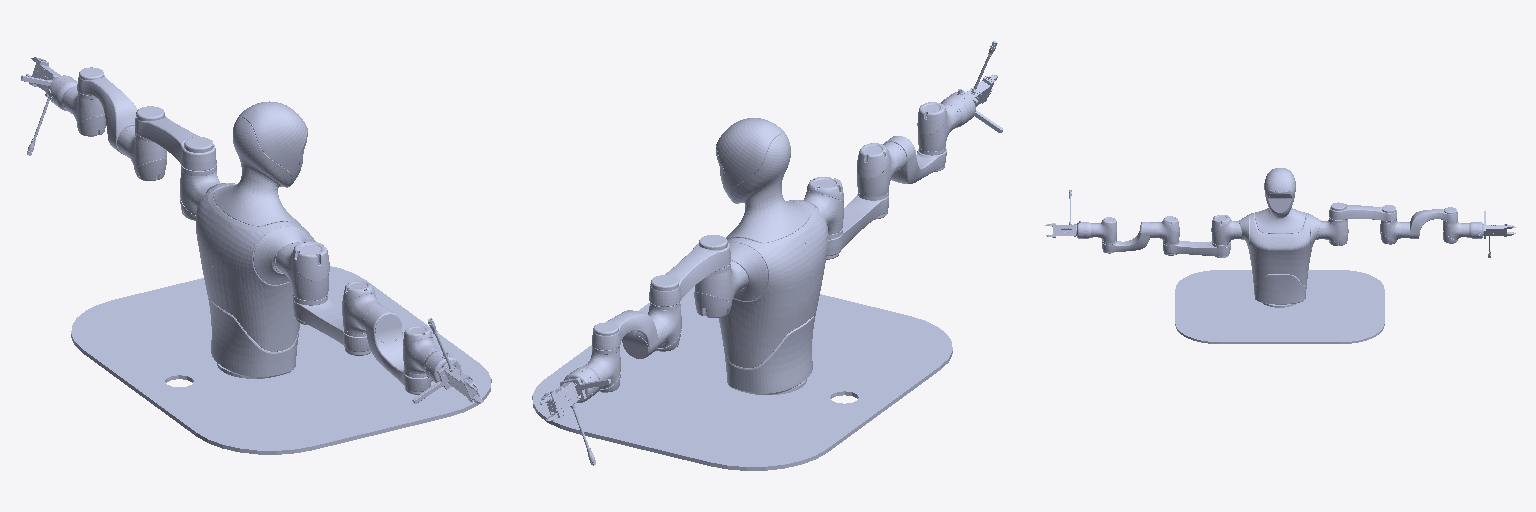
--- Facts derived from the render (not from the file) ---
Views: 3 orthographic renders of the robot side by side, from view 1: azimuth 30°, elevation 25°; view 2: azimuth 150°, elevation 25°; view 3: azimuth 270°, elevation 25°.
Robot: simulation_platform — 21 links, 20 joints (12 revolute, 4 prismatic, 4 fixed); root link base; default pose: every joint at zero.
Links seen in each view (by area): view 1: base, link_left2, link_right1, link_right4, link_left4, link_right2, link_left3, link_right3, link_left5, link_right5, link_left1, hand_right (+3 smaller); view 2: base, link_left2, link_left4, link_right3, link_left1, link_right5, link_right1, link_right2, link_right4, hand_left6, link_left3, link_left5 (+2 smaller); view 3: base, link_left2, link_right1, link_right2, link_left4, link_left1, link_right3, link_right4, link_left3, link_right5.
Link boxes in pixels (left/top/right/bottom): base: left=71, top=101, right=491, bottom=454; link_left2: left=135, top=106, right=216, bottom=170; link_right1: left=273, top=241, right=329, bottom=305; link_right4: left=365, top=307, right=431, bottom=394; link_left4: left=77, top=67, right=136, bottom=154; link_right2: left=293, top=298, right=370, bottom=355; link_left3: left=117, top=126, right=166, bottom=180; link_right3: left=342, top=281, right=383, bottom=336; link_left5: left=62, top=86, right=105, bottom=136; link_right5: left=403, top=326, right=440, bottom=377; link_left1: left=180, top=164, right=220, bottom=220; hand_right: left=412, top=318, right=479, bottom=403; base: left=532, top=118, right=952, bottom=470; link_left2: left=649, top=235, right=730, bottom=306; link_left4: left=592, top=310, right=658, bottom=358; link_right3: left=857, top=142, right=906, bottom=200; link_left1: left=694, top=260, right=748, bottom=317; link_right5: left=917, top=102, right=961, bottom=155; link_right1: left=804, top=177, right=843, bottom=239; link_right2: left=826, top=194, right=888, bottom=259; link_right4: left=883, top=136, right=946, bottom=183; hand_left6: left=545, top=378, right=611, bottom=465; link_left3: left=648, top=303, right=681, bottom=351; link_left5: left=583, top=346, right=620, bottom=392; base: left=1175, top=168, right=1384, bottom=343; link_left2: left=1329, top=202, right=1396, bottom=221; link_right1: left=1211, top=215, right=1244, bottom=247; link_right2: left=1163, top=240, right=1230, bottom=257; link_left4: left=1410, top=207, right=1457, bottom=238; link_left1: left=1316, top=217, right=1348, bottom=245; link_right3: left=1150, top=216, right=1179, bottom=245; link_right4: left=1102, top=222, right=1149, bottom=253; link_left3: left=1380, top=220, right=1409, bottom=244; link_right5: left=1091, top=217, right=1116, bottom=244.
Bounding box of the posed robot: 0.9 × 2.48 × 0.7842 m (x, y, z).
Meshes: 21 distinct files referenced, 21 mesh visuals loaded (21 binary STL).

URDF robot description (simulation_platform):
<?xml version="1.0" encoding="utf-8"?>
<!-- This URDF was automatically created by SolidWorks to URDF Exporter! Originally created by Stephen Brawner ([email redacted]) 
     Commit Version: 1.6.0-4-g7f85cfe  Build Version: 1.6.7995.38578
     For more information, please see http://wiki.ros.org/sw_urdf_exporter -->
<robot
  name="simulation_platform">
  <link
    name="base">
    <inertial>
      <origin
        xyz="0 0 0"
        rpy="0 0 0" />
      <mass
        value="43.3215897902797" />
      <inertia
        ixx="1.3228584285885"
        ixy="-0.000394404115420248"
        ixz="0.0104053289694355"
        iyy="1.00859221975149"
        iyz="-0.000622471141369893"
        izz="1.91465816803884" />
    </inertial>
    <visual>
      <origin
        xyz="0 0 0"
        rpy="0 0 0" />
      <geometry>
        <mesh
          filename="package://simulation_platform/meshes/base.STL" />
      </geometry>
      <material
        name="">
        <color
          rgba="0.792156862745098 0.819607843137255 0.933333333333333 1" />
      </material>
    </visual>
    <collision>
      <origin
        xyz="0 0 0"
        rpy="0 0 0" />
      <geometry>
        <mesh
          filename="package://simulation_platform/meshes/base.STL" />
      </geometry>
    </collision>
  </link>
  <link
    name="link_right0">
    <inertial>
      <origin
        xyz="7.5903E-06 -0.14177 0.00027549"
        rpy="0 0 0" />
      <mass
        value="0.72846" />
      <inertia
        ixx="0.00088281"
        ixy="5.9642E-08"
        ixz="-3.6255E-08"
        iyy="0.0014585"
        iyz="-1.4724E-05"
        izz="0.0009704" />
    </inertial>
    <visual>
      <origin
        xyz="0 0 0"
        rpy="0 0 0" />
      <geometry>
        <mesh
          filename="package://simulation_platform/meshes/link_right0.STL" />
      </geometry>
      <material
        name="">
        <color
          rgba="0.79216 0.81961 0.93333 1" />
      </material>
    </visual>
    <collision>
      <origin
        xyz="0 0 0"
        rpy="0 0 0" />
      <geometry>
        <mesh
          filename="package://simulation_platform/meshes/link_right0.STL" />
      </geometry>
    </collision>
  </link>
  <joint
    name="joint_right0"
    type="fixed">
    <origin
      xyz="0 0 0"
      rpy="0 0 0" />
    <parent
      link="base" />
    <child
      link="link_right0" />
    <axis
      xyz="0 0 0" />
    <limit
      lower="-3.14"
      upper="3.14"
      effort="0"
      velocity="0" />
  </joint>
  <link
    name="link_right1">
    <inertial>
      <origin
        xyz="-8.21442385146032E-06 -0.00396594988173432 0.278493657857518"
        rpy="0 0 0" />
      <mass
        value="1.9858295170009" />
      <inertia
        ixx="0.00594605746573216"
        ixy="-7.00105588073502E-07"
        ixz="-2.69860796268996E-07"
        iyy="0.00528006222559574"
        iyz="0.0011450656041093"
        izz="0.00325220079372749" />
    </inertial>
    <visual>
      <origin
        xyz="0 0 0"
        rpy="0 0 0" />
      <geometry>
        <mesh
          filename="package://simulation_platform/meshes/link_right1.STL" />
      </geometry>
      <material
        name="">
        <color
          rgba="0.792156862745098 0.819607843137255 0.933333333333333 1" />
      </material>
    </visual>
    <collision>
      <origin
        xyz="0 0 0"
        rpy="0 0 0" />
      <geometry>
        <mesh
          filename="package://simulation_platform/meshes/link_right1.STL" />
      </geometry>
    </collision>
  </link>
  <joint
    name="joint_right1"
    type="revolute">
    <origin
      xyz="0 0 0"
      rpy="1.5708 0 0" />
    <parent
      link="link_right0" />
    <child
      link="link_right1" />
    <axis
      xyz="0 0 1" />
    <limit
      lower="-6.28"
      upper="6.28"
      effort="0"
      velocity="0" />
  </joint>
  <link
    name="link_right2">
    <inertial>
      <origin
        xyz="-1.22579083361579E-05 0.122778072077027 0.107534229944211"
        rpy="0 0 0" />
      <mass
        value="1.33352472428525" />
      <inertia
        ixx="0.0115891008335387"
        ixy="2.47537255506613E-06"
        ixz="-1.30847017140252E-07"
        iyy="0.000874266875649386"
        iyz="0.000516653730809935"
        izz="0.0119620511132481" />
    </inertial>
    <visual>
      <origin
        xyz="0 0 0"
        rpy="0 0 0" />
      <geometry>
        <mesh
          filename="package://simulation_platform/meshes/link_right2.STL" />
      </geometry>
      <material
        name="">
        <color
          rgba="0.792156862745098 0.819607843137255 0.933333333333333 1" />
      </material>
    </visual>
    <collision>
      <origin
        xyz="0 0 0"
        rpy="0 0 0" />
      <geometry>
        <mesh
          filename="package://simulation_platform/meshes/link_right2.STL" />
      </geometry>
    </collision>
  </link>
  <joint
    name="joint_right2"
    type="revolute">
    <origin
      xyz="0 0 0.3075"
      rpy="1.5708 0 0" />
    <parent
      link="link_right1" />
    <child
      link="link_right2" />
    <axis
      xyz="0 0 1" />
    <limit
      lower="-2.35"
      upper="2.35"
      effort="0"
      velocity="0" />
  </joint>
  <link
    name="link_right3">
    <inertial>
      <origin
        xyz="0.0262437283143706 5.35184722441628E-06 -0.00343984053858781"
        rpy="0 0 0" />
      <mass
        value="1.39234640329936" />
      <inertia
        ixx="0.00182228881084302"
        ixy="-2.21584401608917E-07"
        ixz="-0.000639318936169154"
        iyy="0.00336257779734387"
        iyz="-5.57320573304867E-07"
        izz="0.00292731729292644" />
    </inertial>
    <visual>
      <origin
        xyz="0 0 0"
        rpy="0 0 0" />
      <geometry>
        <mesh
          filename="package://simulation_platform/meshes/link_right3.STL" />
      </geometry>
      <material
        name="">
        <color
          rgba="0.792156862745098 0.819607843137255 0.933333333333333 1" />
      </material>
    </visual>
    <collision>
      <origin
        xyz="0 0 0"
        rpy="0 0 0" />
      <geometry>
        <mesh
          filename="package://simulation_platform/meshes/link_right3.STL" />
      </geometry>
    </collision>
  </link>
  <joint
    name="joint_right3"
    type="revolute">
    <origin
      xyz="0 0.266 0"
      rpy="3.1416 0 1.5708" />
    <parent
      link="link_right2" />
    <child
      link="link_right3" />
    <axis
      xyz="0 0 1" />
    <limit
      lower="-2.61"
      upper="2.61"
      effort="0"
      velocity="0" />
  </joint>
  <link
    name="link_right4">
    <inertial>
      <origin
        xyz="1.8707836847015E-06 -0.0570139540905014 0.201563216548901"
        rpy="0 0 0" />
      <mass
        value="1.07039559875055" />
      <inertia
        ixx="0.00657429885177906"
        ixy="3.46891116283652E-08"
        ixz="-5.18490374181869E-09"
        iyy="0.0053784888316756"
        iyz="0.00190731399907389"
        izz="0.00214026087147766" />
    </inertial>
    <visual>
      <origin
        xyz="0 0 0"
        rpy="0 0 0" />
      <geometry>
        <mesh
          filename="package://simulation_platform/meshes/link_right4.STL" />
      </geometry>
      <material
        name="">
        <color
          rgba="0.792156862745098 0.819607843137255 0.933333333333333 1" />
      </material>
    </visual>
    <collision>
      <origin
        xyz="0 0 0"
        rpy="0 0 0" />
      <geometry>
        <mesh
          filename="package://simulation_platform/meshes/link_right4.STL" />
      </geometry>
    </collision>
  </link>
  <joint
    name="joint_right4"
    type="revolute">
    <origin
      xyz="0 0 0"
      rpy="1.5708 0 1.5708" />
    <parent
      link="link_right3" />
    <child
      link="link_right4" />
    <axis
      xyz="0 0 1" />
    <limit
      lower="-6.28"
      upper="6.28"
      effort="0"
      velocity="0" />
  </joint>
  <link
    name="link_right5">
    <inertial>
      <origin
        xyz="-4.66460130466029E-07 -0.0225167537988672 -0.00429954255347281"
        rpy="0 0 0" />
      <mass
        value="0.990243786402165" />
      <inertia
        ixx="0.0019310273989305"
        ixy="3.96432641526973E-08"
        ixz="9.44768411675116E-08"
        iyy="0.00109724751585536"
        iyz="0.000374785902132069"
        izz="0.00160806952391578" />
    </inertial>
    <visual>
      <origin
        xyz="0 0 0"
        rpy="0 0 0" />
      <geometry>
        <mesh
          filename="package://simulation_platform/meshes/link_right5.STL" />
      </geometry>
      <material
        name="">
        <color
          rgba="0.792156862745098 0.819607843137255 0.933333333333333 1" />
      </material>
    </visual>
    <collision>
      <origin
        xyz="0 0 0"
        rpy="0 0 0" />
      <geometry>
        <mesh
          filename="package://simulation_platform/meshes/link_right5.STL" />
      </geometry>
    </collision>
  </link>
  <joint
    name="joint_right5"
    type="revolute">
    <origin
      xyz="0 0 0.324"
      rpy="-1.5708 0 0" />
    <parent
      link="link_right4" />
    <child
      link="link_right5" />
    <axis
      xyz="0 0 1" />
    <limit
      lower="-2.56"
      upper="2.56"
      effort="0"
      velocity="0" />
  </joint>
  <link
    name="link_right6">
    <inertial>
      <origin
        xyz="1.3519046671906E-05 0.000477302441929228 0.137144689459497"
        rpy="0 0 0" />
      <mass
        value="0.126608033051336" />
      <inertia
        ixx="8.2898811851378E-05"
        ixy="-5.29172824242229E-09"
        ixz="-5.70900039755673E-08"
        iyy="8.60224116198627E-05"
        iyz="1.30074836769069E-07"
        izz="0.000156133500600113" />
    </inertial>
    <visual>
      <origin
        xyz="0 0 0"
        rpy="0 0 0" />
      <geometry>
        <mesh
          filename="package://simulation_platform/meshes/link_right6.STL" />
      </geometry>
      <material
        name="">
        <color
          rgba="0.792156862745098 0.819607843137255 0.933333333333333 1" />
      </material>
    </visual>
    <collision>
      <origin
        xyz="0 0 0"
        rpy="0 0 0" />
      <geometry>
        <mesh
          filename="package://simulation_platform/meshes/link_right6.STL" />
      </geometry>
    </collision>
  </link>
  <joint
    name="joint_right6"
    type="revolute">
    <origin
      xyz="0 0 0"
      rpy="1.5708 0 0" />
    <parent
      link="link_right5" />
    <child
      link="link_right6" />
    <axis
      xyz="0 0 1" />
    <limit
      lower="-6.28"
      upper="6.28"
      effort="0"
      velocity="0" />
  </joint>
  <link
    name="hand_right">
    <inertial>
      <origin
        xyz="-0.00821905436879158 0.00634117823836328 0.0495402737698645"
        rpy="0 0 0" />
      <mass
        value="0.231361572683321" />
      <inertia
        ixx="0.000133313381186756"
        ixy="-1.32111223551802E-05"
        ixz="-4.6597924957757E-09"
        iyy="0.000143130625498164"
        iyz="-3.65410109705155E-07"
        izz="0.000185396526175827" />
    </inertial>
    <visual>
      <origin
        xyz="0 0 0"
        rpy="0 0 0" />
      <geometry>
        <mesh
          filename="package://simulation_platform/meshes/hand_right.STL" />
      </geometry>
      <material
        name="">
        <color
          rgba="0.792156862745098 0.819607843137255 0.933333333333333 1" />
      </material>
    </visual>
    <collision>
      <origin
        xyz="0 0 0"
        rpy="0 0 0" />
      <geometry>
        <mesh
          filename="package://simulation_platform/meshes/hand_right.STL" />
      </geometry>
    </collision>
  </link>
  <joint
    name="hand_right"
    type="fixed">
    <origin
      xyz="0 0 0.175"
      rpy="0 0 0" />
    <parent
      link="link_right6" />
    <child
      link="hand_right" />
    <axis
      xyz="0 0 0" />
  </joint>
  <link
    name="right_finger1">
    <inertial>
      <origin
        xyz="-0.00229785421871702 0.0175941162153652 0.00978855943626122"
        rpy="0 0 0" />
      <mass
        value="0.0123263578772126" />
      <inertia
        ixx="2.59093020990083E-06"
        ixy="-4.44999808480243E-08"
        ixz="8.86991192929302E-08"
        iyy="2.23465232621784E-06"
        iyz="1.54218655453198E-07"
        izz="7.42503503537374E-07" />
    </inertial>
    <visual>
      <origin
        xyz="0 0 0"
        rpy="0 0 0" />
      <geometry>
        <mesh
          filename="package://simulation_platform/meshes/right_finger1.STL" />
      </geometry>
      <material
        name="">
        <color
          rgba="0.792156862745098 0.819607843137255 0.933333333333333 1" />
      </material>
    </visual>
    <collision>
      <origin
        xyz="0 0 0"
        rpy="0 0 0" />
      <geometry>
        <mesh
          filename="package://simulation_platform/meshes/right_finger1.STL" />
      </geometry>
    </collision>
  </link>
  <joint
    name="joint_right_finger1"
    type="prismatic">
    <origin
      xyz="-0.01106 0.0267 0.1095"
      rpy="1.5708 0 0.3927" />
    <parent
      link="hand_right" />
    <child
      link="right_finger1" />
    <axis
      xyz="0 0 1" />
    <limit
      lower="0"
      upper="0.01982"
      effort="0"
      velocity="0" />
    <mimic
      joint="joint_right_finger2"
      multiplier="1"
      offset="0" />
  </joint>
  <link
    name="right_finger2">
    <inertial>
      <origin
        xyz="-0.0022978542187163 0.0175941162153661 0.00978855943626111"
        rpy="0 0 0" />
      <mass
        value="0.0123263578772126" />
      <inertia
        ixx="2.59093020990084E-06"
        ixy="-4.44999808480256E-08"
        ixz="8.86991192929333E-08"
        iyy="2.23465232621785E-06"
        iyz="1.54218655453198E-07"
        izz="7.42503503537376E-07" />
    </inertial>
    <visual>
      <origin
        xyz="0 0 0"
        rpy="0 0 0" />
      <geometry>
        <mesh
          filename="package://simulation_platform/meshes/right_finger2.STL" />
      </geometry>
      <material
        name="">
        <color
          rgba="0.792156862745098 0.819607843137255 0.933333333333333 1" />
      </material>
    </visual>
    <collision>
      <origin
        xyz="0 0 0"
        rpy="0 0 0" />
      <geometry>
        <mesh
          filename="package://simulation_platform/meshes/right_finger2.STL" />
      </geometry>
    </collision>
  </link>
  <joint
    name="joint_right_finger2"
    type="prismatic">
    <origin
      xyz="0.01106 -0.0267 0.1095"
      rpy="1.5708 0 -2.7489" />
    <parent
      link="hand_right" />
    <child
      link="right_finger2" />
    <axis
      xyz="0 0 1" />
    <limit
      lower="0"
      upper="0.01982"
      effort="0"
      velocity="0" />
  </joint>
  <link
    name="link_left0">
    <inertial>
      <origin
        xyz="-7.59034702882411E-06 0.141765152858901 0.000275485599622982"
        rpy="0 0 0" />
      <mass
        value="0.728456071678779" />
      <inertia
        ixx="0.00088280791320513"
        ixy="5.96416765246259E-08"
        ixz="3.62553999573005E-08"
        iyy="0.00145846071899871"
        iyz="1.47235460345846E-05"
        izz="0.000970397629421623" />
    </inertial>
    <visual>
      <origin
        xyz="0 0 0"
        rpy="0 0 0" />
      <geometry>
        <mesh
          filename="package://simulation_platform/meshes/link_left0.STL" />
      </geometry>
      <material
        name="">
        <color
          rgba="0.792156862745098 0.819607843137255 0.933333333333333 1" />
      </material>
    </visual>
    <collision>
      <origin
        xyz="0 0 0"
        rpy="0 0 0" />
      <geometry>
        <mesh
          filename="package://simulation_platform/meshes/link_left0.STL" />
      </geometry>
    </collision>
  </link>
  <joint
    name="joint_left0"
    type="fixed">
    <origin
      xyz="0 0 0"
      rpy="0 0 0" />
    <parent
      link="base" />
    <child
      link="link_left0" />
    <axis
      xyz="0 0 0" />
    <limit
      lower="-3.14"
      upper="3.14"
      effort="0"
      velocity="0" />
  </joint>
  <link
    name="link_left1">
    <inertial>
      <origin
        xyz="-8.21441705614601E-06 -0.00396594990535803 0.278493657894544"
        rpy="0 0 0" />
      <mass
        value="1.985829515773" />
      <inertia
        ixx="0.00594605744769281"
        ixy="-7.0010251938855E-07"
        ixz="-2.69900238327082E-07"
        iyy="0.00528006222883993"
        iyz="0.00114506560170686"
        izz="0.00325220080147783" />
    </inertial>
    <visual>
      <origin
        xyz="0 0 0"
        rpy="0 0 0" />
      <geometry>
        <mesh
          filename="package://simulation_platform/meshes/link_left1.STL" />
      </geometry>
      <material
        name="">
        <color
          rgba="0.792156862745098 0.819607843137255 0.933333333333333 1" />
      </material>
    </visual>
    <collision>
      <origin
        xyz="0 0 0"
        rpy="0 0 0" />
      <geometry>
        <mesh
          filename="package://simulation_platform/meshes/link_left1.STL" />
      </geometry>
    </collision>
  </link>
  <joint
    name="joint_left1"
    type="revolute">
    <origin
      xyz="0 0 0"
      rpy="-1.5707963267949 0 0" />
    <parent
      link="link_left0" />
    <child
      link="link_left1" />
    <axis
      xyz="0 0 -1" />
    <limit
      lower="-6.28"
      upper="6.28"
      effort="0"
      velocity="0" />
  </joint>
  <link
    name="link_left2">
    <inertial>
      <origin
        xyz="-1.22579083319113E-05 0.122778072077023 0.107534229944211"
        rpy="0 0 0" />
      <mass
        value="1.33352472428524" />
      <inertia
        ixx="0.0115891008335387"
        ixy="2.47537255507954E-06"
        ixz="-1.30847017140168E-07"
        iyy="0.000874266875649388"
        iyz="0.000516653730809937"
        izz="0.0119620511132481" />
    </inertial>
    <visual>
      <origin
        xyz="0 0 0"
        rpy="0 0 0" />
      <geometry>
        <mesh
          filename="package://simulation_platform/meshes/link_left2.STL" />
      </geometry>
      <material
        name="">
        <color
          rgba="0.792156862745098 0.819607843137255 0.933333333333333 1" />
      </material>
    </visual>
    <collision>
      <origin
        xyz="0 0 0"
        rpy="0 0 0" />
      <geometry>
        <mesh
          filename="package://simulation_platform/meshes/link_left2.STL" />
      </geometry>
    </collision>
  </link>
  <joint
    name="joint_left2"
    type="revolute">
    <origin
      xyz="0 0 0.3075"
      rpy="1.5707963267949 0 0" />
    <parent
      link="link_left1" />
    <child
      link="link_left2" />
    <axis
      xyz="0 0 1" />
    <limit
      lower="-2.35"
      upper="2.35"
      effort="0"
      velocity="0" />
  </joint>
  <link
    name="link_left3">
    <inertial>
      <origin
        xyz="0.026244 5.352E-06 -0.0034398"
        rpy="0 0 0" />
      <mass
        value="1.3923" />
      <inertia
        ixx="0.0018223"
        ixy="-2.216E-07"
        ixz="-0.00063932"
        iyy="0.0033626"
        iyz="-5.5732E-07"
        izz="0.0029273" />
    </inertial>
    <visual>
      <origin
        xyz="0 0 0"
        rpy="0 0 0" />
      <geometry>
        <mesh
          filename="package://simulation_platform/meshes/link_left3.STL" />
      </geometry>
      <material
        name="">
        <color
          rgba="0.79216 0.81961 0.93333 1" />
      </material>
    </visual>
    <collision>
      <origin
        xyz="0 0 0"
        rpy="0 0 0" />
      <geometry>
        <mesh
          filename="package://simulation_platform/meshes/link_left3.STL" />
      </geometry>
    </collision>
  </link>
  <joint
    name="joint_left3"
    type="revolute">
    <origin
      xyz="0 0.266 0"
      rpy="3.14159265358979 0 1.5707963267949" />
    <parent
      link="link_left2" />
    <child
      link="link_left3" />
    <axis
      xyz="0 0 1" />
    <limit
      lower="-2.61"
      upper="2.61"
      effort="0"
      velocity="0" />
  </joint>
  <link
    name="link_left4">
    <inertial>
      <origin
        xyz="1.87078368585336E-06 -0.0570139540905013 0.201563216548896"
        rpy="0 0 0" />
      <mass
        value="1.07039559875056" />
      <inertia
        ixx="0.00657429885177912"
        ixy="3.46891116373785E-08"
        ixz="-5.18490374618703E-09"
        iyy="0.00537848883167567"
        iyz="0.00190731399907391"
        izz="0.00214026087147767" />
    </inertial>
    <visual>
      <origin
        xyz="0 0 0"
        rpy="0 0 0" />
      <geometry>
        <mesh
          filename="package://simulation_platform/meshes/link_left4.STL" />
      </geometry>
      <material
        name="">
        <color
          rgba="0.792156862745098 0.819607843137255 0.933333333333333 1" />
      </material>
    </visual>
    <collision>
      <origin
        xyz="0 0 0"
        rpy="0 0 0" />
      <geometry>
        <mesh
          filename="package://simulation_platform/meshes/link_left4.STL" />
      </geometry>
    </collision>
  </link>
  <joint
    name="joint_left4"
    type="revolute">
    <origin
      xyz="0 0 0"
      rpy="1.5707963267949 0 1.5707963267949" />
    <parent
      link="link_left3" />
    <child
      link="link_left4" />
    <axis
      xyz="0 0 1" />
    <limit
      lower="-6.28"
      upper="6.28"
      effort="0"
      velocity="0" />
  </joint>
  <link
    name="link_left5">
    <inertial>
      <origin
        xyz="-4.6666E-07 0.022517 0.0042995"
        rpy="0 0 0" />
      <mass
        value="0.99024" />
      <inertia
        ixx="0.001931"
        ixy="-3.9634E-08"
        ixz="-9.4476E-08"
        iyy="0.0010972"
        iyz="0.00037479"
        izz="0.0016081" />
    </inertial>
    <visual>
      <origin
        xyz="0 0 0"
        rpy="0 0 0" />
      <geometry>
        <mesh
          filename="package://simulation_platform/meshes/link_left5.STL" />
      </geometry>
      <material
        name="">
        <color
          rgba="0.79216 0.81961 0.93333 1" />
      </material>
    </visual>
    <collision>
      <origin
        xyz="0 0 0"
        rpy="0 0 0" />
      <geometry>
        <mesh
          filename="package://simulation_platform/meshes/link_left5.STL" />
      </geometry>
    </collision>
  </link>
  <joint
    name="joint_left5"
    type="revolute">
    <origin
      xyz="0 0 0.323999999999999"
      rpy="1.5707963267949 0 0" />
    <parent
      link="link_left4" />
    <child
      link="link_left5" />
    <axis
      xyz="0 0 1" />
    <limit
      lower="-2.56"
      upper="2.56"
      effort="0"
      velocity="0" />
  </joint>
  <link
    name="link_left6">
    <inertial>
      <origin
        xyz="0.0004773 1.3519E-05 -0.13714"
        rpy="0 0 0" />
      <mass
        value="0.12661" />
      <inertia
        ixx="8.6022E-05"
        ixy="-5.2917E-09"
        ixz="-1.3007E-07"
        iyy="8.2899E-05"
        iyz="5.709E-08"
        izz="0.00015613" />
    </inertial>
    <visual>
      <origin
        xyz="0 0 0"
        rpy="0 0 0" />
      <geometry>
        <mesh
          filename="package://simulation_platform/meshes/link_left6.STL" />
      </geometry>
      <material
        name="">
        <color
          rgba="0.79216 0.81961 0.93333 1" />
      </material>
    </visual>
    <collision>
      <origin
        xyz="0 0 0"
        rpy="0 0 0" />
      <geometry>
        <mesh
          filename="package://simulation_platform/meshes/link_left6.STL" />
      </geometry>
    </collision>
  </link>
  <joint
    name="joint_left6"
    type="revolute">
    <origin
      xyz="0 0 0"
      rpy="1.5707963267949 0 0" />
    <parent
      link="link_left5" />
    <child
      link="link_left6" />
    <axis
      xyz="0 0 1" />
    <limit
      lower="-6.28"
      upper="6.28"
      effort="0"
      velocity="0" />
  </joint>
  <link
    name="hand_left6">
    <inertial>
      <origin
        xyz="-0.00821905436877443 0.00634117823836089 0.0495402737698643"
        rpy="0 0 0" />
      <mass
        value="0.23136157268332" />
      <inertia
        ixx="0.000133313381186756"
        ixy="-1.32111223551801E-05"
        ixz="-4.65979249504553E-09"
        iyy="0.000143130625498164"
        iyz="-3.65410109704819E-07"
        izz="0.000185396526175827" />
    </inertial>
    <visual>
      <origin
        xyz="0 0 0"
        rpy="0 0 0" />
      <geometry>
        <mesh
          filename="package://simulation_platform/meshes/hand_left6.STL" />
      </geometry>
      <material
        name="">
        <color
          rgba="0.792156862745098 0.819607843137255 0.933333333333333 1" />
      </material>
    </visual>
    <collision>
      <origin
        xyz="0 0 0"
        rpy="0 0 0" />
      <geometry>
        <mesh
          filename="package://simulation_platform/meshes/hand_left6.STL" />
      </geometry>
    </collision>
  </link>
  <joint
    name="hand_link"
    type="fixed">
    <origin
      xyz="0 0 -0.175"
      rpy="-3.1416 0 0" />
    <parent
      link="link_left6" />
    <child
      link="hand_left6" />
    <axis
      xyz="0 0 0" />
  </joint>
  <link
    name="left_finger1">
    <inertial>
      <origin
        xyz="-0.00229785421872031 0.0175941162153714 0.00978855943626961"
        rpy="0 0 0" />
      <mass
        value="0.0123263578772125" />
      <inertia
        ixx="2.59093020990084E-06"
        ixy="-4.44999808480204E-08"
        ixz="8.86991192929284E-08"
        iyy="2.23465232621785E-06"
        iyz="1.5421865545319E-07"
        izz="7.42503503537373E-07" />
    </inertial>
    <visual>
      <origin
        xyz="0 0 0"
        rpy="0 0 0" />
      <geometry>
        <mesh
          filename="package://simulation_platform/meshes/left_finger1.STL" />
      </geometry>
      <material
        name="">
        <color
          rgba="0.792156862745098 0.819607843137255 0.933333333333333 1" />
      </material>
    </visual>
    <collision>
      <origin
        xyz="0 0 0"
        rpy="0 0 0" />
      <geometry>
        <mesh
          filename="package://simulation_platform/meshes/left_finger1.STL" />
      </geometry>
    </collision>
  </link>
  <joint
    name="joint_left_finger1"
    type="prismatic">
    <origin
      xyz="0.01106 -0.0267 0.1095"
      rpy="1.5708 0 -2.7489" />
    <parent
      link="hand_left6" />
    <child
      link="left_finger1" />
    <axis
      xyz="0 0 -1" />
    <limit
      lower="0"
      upper="0.01982"
      effort="0"
      velocity="0" />
    <mimic
      joint="joint_left_finger2"
      multiplier="1"
      offset="0" />
  </joint>
  <link
    name="left_finger2">
    <inertial>
      <origin
        xyz="-0.00229785421871315 0.0175941162153721 0.00978855943625301"
        rpy="0 0 0" />
      <mass
        value="0.0123263578772125" />
      <inertia
        ixx="2.59093020990084E-06"
        ixy="-4.44999808480235E-08"
        ixz="8.86991192929311E-08"
        iyy="2.23465232621784E-06"
        iyz="1.54218655453199E-07"
        izz="7.42503503537376E-07" />
    </inertial>
    <visual>
      <origin
        xyz="0 0 0"
        rpy="0 0 0" />
      <geometry>
        <mesh
          filename="package://simulation_platform/meshes/left_finger2.STL" />
      </geometry>
      <material
        name="">
        <color
          rgba="0.792156862745098 0.819607843137255 0.933333333333333 1" />
      </material>
    </visual>
    <collision>
      <origin
        xyz="0 0 0"
        rpy="0 0 0" />
      <geometry>
        <mesh
          filename="package://simulation_platform/meshes/left_finger2.STL" />
      </geometry>
    </collision>
  </link>
  <joint
    name="joint_left_finger2"
    type="prismatic">
    <origin
      xyz="-0.01106 0.0267 0.1095"
      rpy="1.5708 0 0.3927" />
    <parent
      link="hand_left6" />
    <child
      link="left_finger2" />
    <axis
      xyz="0 0 1" />
    <limit
      lower="0"
      upper="0.01982"
      effort="0"
      velocity="0" />
  </joint>
</robot>
